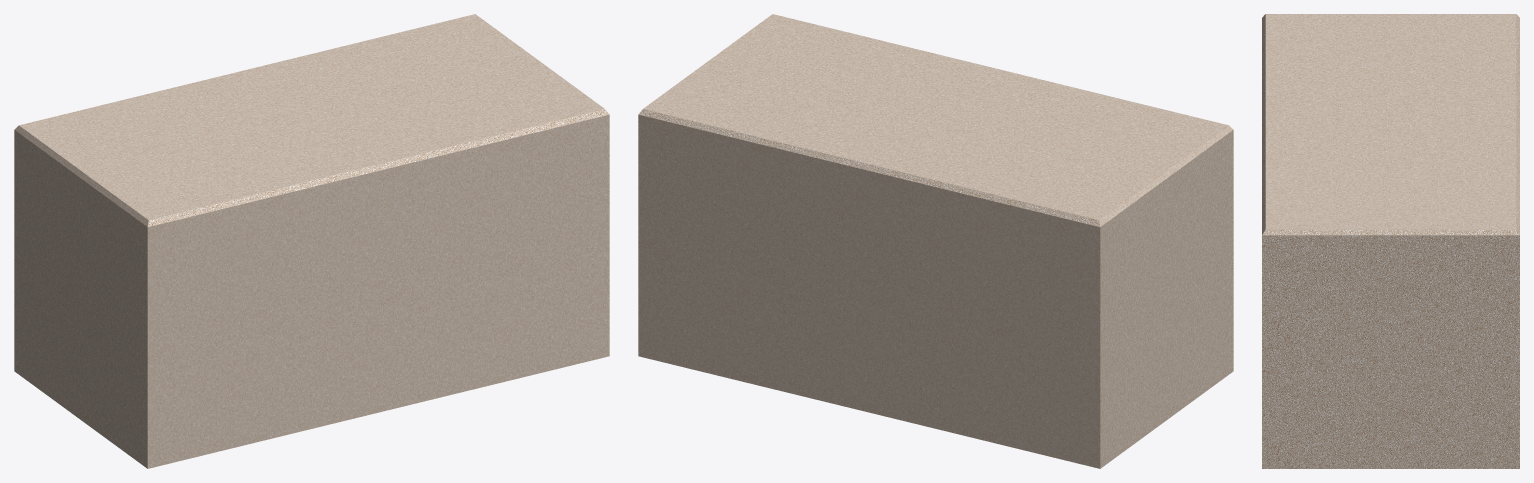
File: sidewalk.glb
3 renders of one model, left to right at view 1: azimuth 30°, elevation 25°; view 2: azimuth 150°, elevation 25°; view 3: azimuth 270°, elevation 25°, orthographic. The views are drawn at different scales.
Visible parts, largest first — view 1: Cube; view 2: Cube; view 3: Cube.
Part boxes in pixels (x1,y1,x2,y2): Cube: [14, 14, 609, 468]; Cube: [638, 14, 1233, 468]; Cube: [1262, 14, 1519, 468].
Bounding box in the file's own units: 4 × 2.04 × 2.
1 material, 1 textured.
